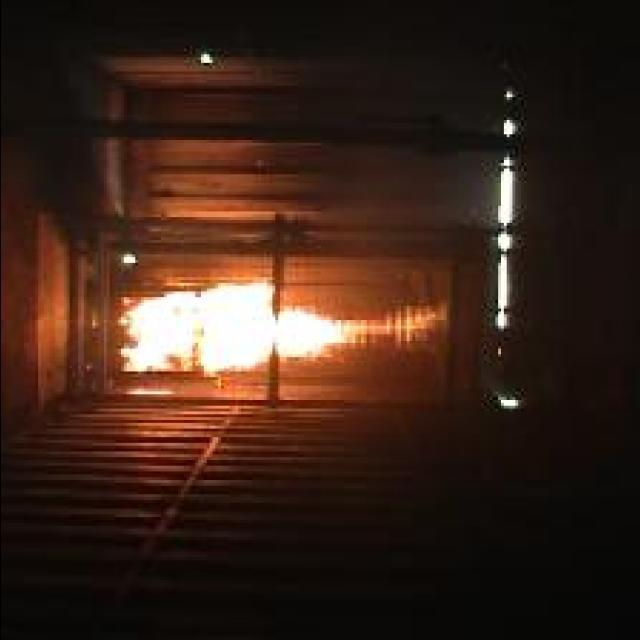Fire: (117, 284, 443, 372)
